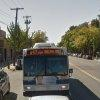Bus: (18, 39, 78, 100)
